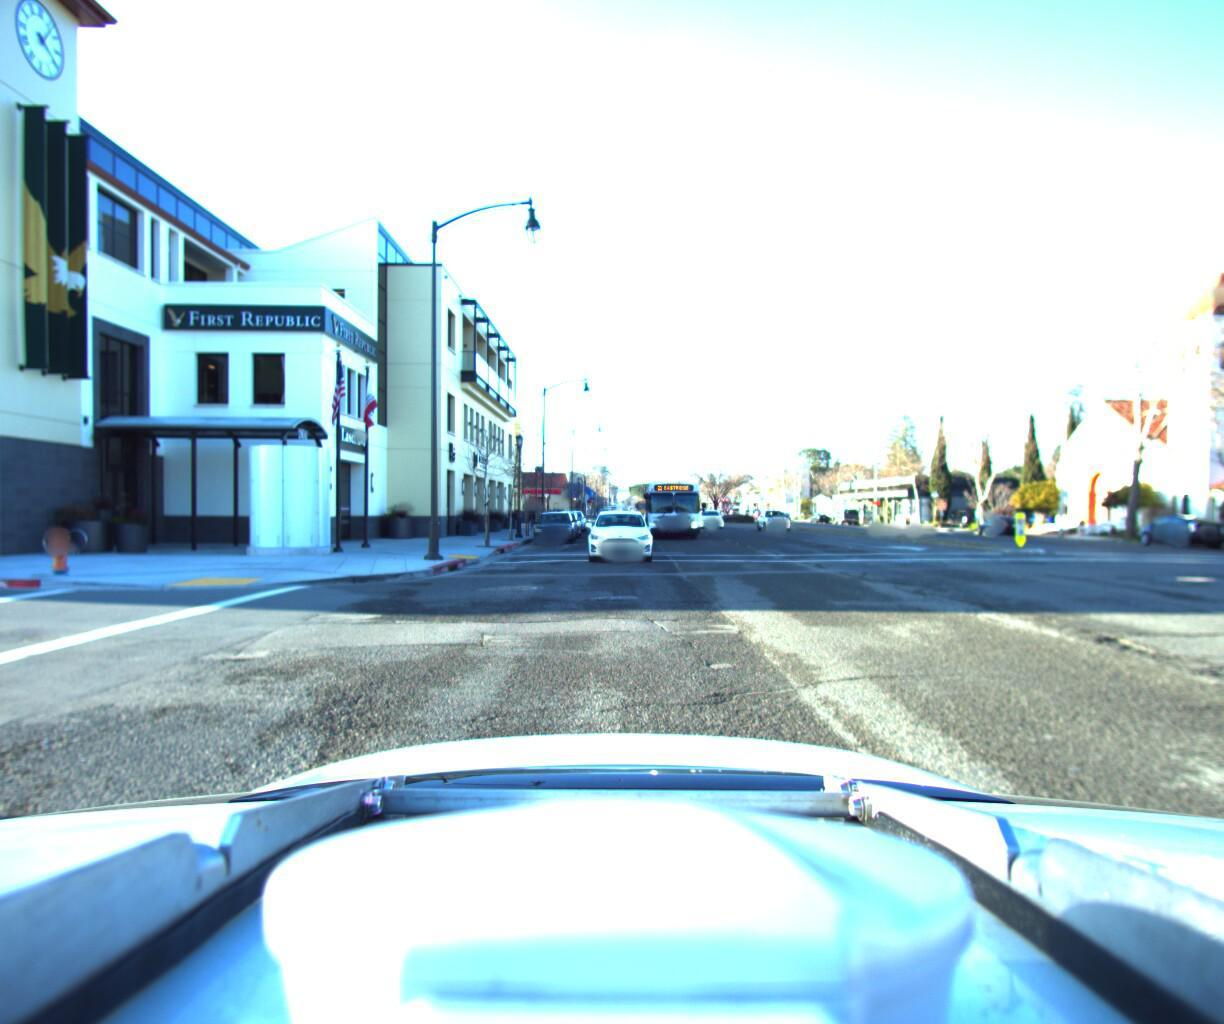bicycle: (525, 496, 538, 524)
bus: (638, 465, 710, 541)
car: (587, 500, 657, 563), (1127, 507, 1224, 545), (533, 503, 577, 542), (544, 504, 582, 534), (754, 498, 794, 526), (696, 501, 729, 522), (559, 503, 586, 528), (1215, 508, 1224, 555)
